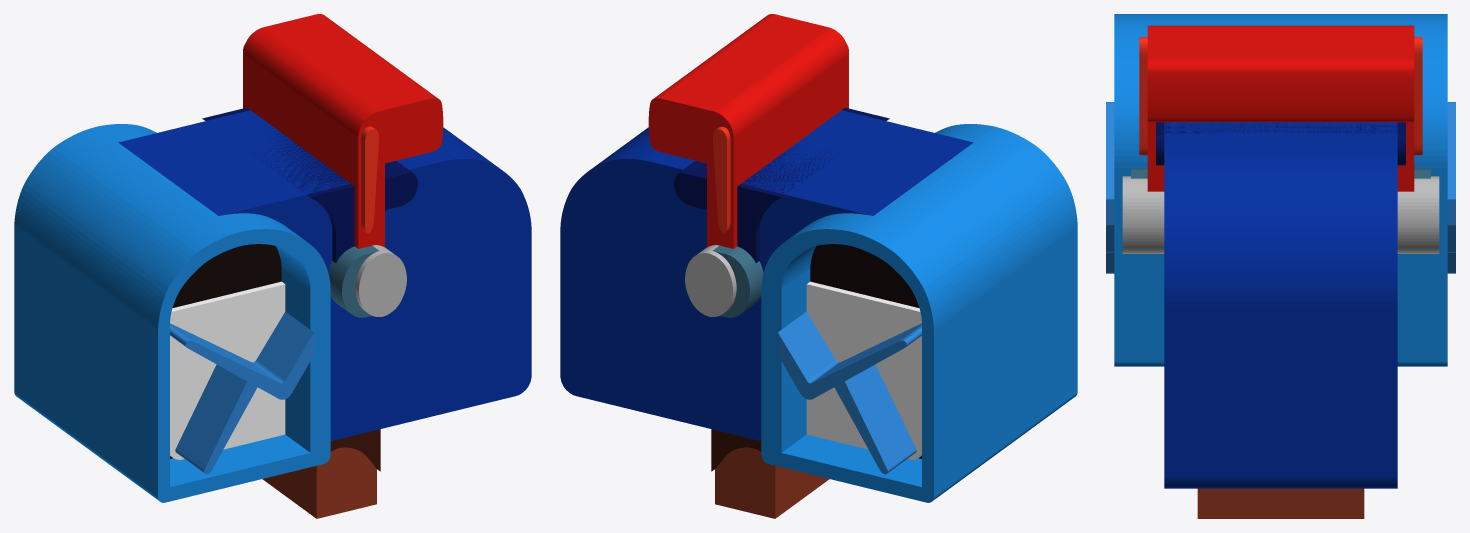
3 renders of one model, left to right at view 1: azimuth 30°, elevation 25°; view 2: azimuth 150°, elevation 25°; view 3: azimuth 270°, elevation 25°, orthographic. The views are drawn at different scales.
Parts seen in each view (by area): view 1: U+1F4EC_layer10_obj00, U+1F4EC_layer04_obj00, U+1F4EC_layer06_obj00, U+1F4EC_layer03_obj01, U+1F4EC_layer05_obj00, U+1F4EC_layer00_obj00, U+1F4EC_layer11_obj01, U+1F4EC_layer11_obj00, U+1F4EC_layer02_obj00, U+1F4EC_layer09_obj00, U+1F4EC_layer08_obj00, U+1F4EC_layer07_obj00 (+2 smaller); view 2: U+1F4EC_layer10_obj00, U+1F4EC_layer04_obj00, U+1F4EC_layer06_obj00, U+1F4EC_layer03_obj01, U+1F4EC_layer00_obj00, U+1F4EC_layer05_obj00, U+1F4EC_layer11_obj01, U+1F4EC_layer11_obj00, U+1F4EC_layer02_obj00, U+1F4EC_layer09_obj00, U+1F4EC_layer08_obj00, U+1F4EC_layer07_obj00 (+3 smaller); view 3: U+1F4EC_layer04_obj00, U+1F4EC_layer06_obj00, U+1F4EC_layer10_obj00, U+1F4EC_layer09_obj00, U+1F4EC_layer00_obj00, U+1F4EC_layer11_obj01, U+1F4EC_layer07_obj00, U+1F4EC_layer05_obj00.
Part boxes in pixels (<box>): U+1F4EC_layer10_obj00: <box>14,124,330,502</box>; U+1F4EC_layer04_obj00: <box>118,110,531,440</box>; U+1F4EC_layer06_obj00: <box>243,14,443,248</box>; U+1F4EC_layer03_obj01: <box>170,281,285,459</box>; U+1F4EC_layer05_obj00: <box>202,107,417,262</box>; U+1F4EC_layer00_obj00: <box>262,447,376,518</box>; U+1F4EC_layer11_obj01: <box>170,311,313,399</box>; U+1F4EC_layer11_obj00: <box>175,364,262,474</box>; U+1F4EC_layer02_obj00: <box>170,244,281,458</box>; U+1F4EC_layer09_obj00: <box>355,245,406,316</box>; U+1F4EC_layer08_obj00: <box>328,245,379,317</box>; U+1F4EC_layer07_obj00: <box>243,43,378,233</box>; U+1F4EC_layer10_obj00: <box>761,124,1077,502</box>; U+1F4EC_layer04_obj00: <box>560,110,973,440</box>; U+1F4EC_layer06_obj00: <box>648,14,848,248</box>; U+1F4EC_layer03_obj01: <box>806,281,921,459</box>; U+1F4EC_layer00_obj00: <box>715,447,829,518</box>; U+1F4EC_layer05_obj00: <box>674,107,889,262</box>; U+1F4EC_layer11_obj01: <box>778,311,921,399</box>; U+1F4EC_layer11_obj00: <box>829,364,916,474</box>; U+1F4EC_layer02_obj00: <box>810,244,921,458</box>; U+1F4EC_layer09_obj00: <box>685,245,736,316</box>; U+1F4EC_layer08_obj00: <box>712,245,763,317</box>; U+1F4EC_layer07_obj00: <box>713,43,848,233</box>; U+1F4EC_layer04_obj00: <box>1164,122,1397,488</box>; U+1F4EC_layer06_obj00: <box>1147,25,1414,191</box>; U+1F4EC_layer10_obj00: <box>1114,14,1447,366</box>; U+1F4EC_layer09_obj00: <box>1122,176,1439,253</box>; U+1F4EC_layer00_obj00: <box>1197,488,1364,518</box>; U+1F4EC_layer11_obj01: <box>1106,102,1455,252</box>; U+1F4EC_layer07_obj00: <box>1139,37,1422,155</box>; U+1F4EC_layer05_obj00: <box>1156,122,1405,165</box>.
Bounding box in the file's own units: 0.3175 × 0.3175 × 0.21.
